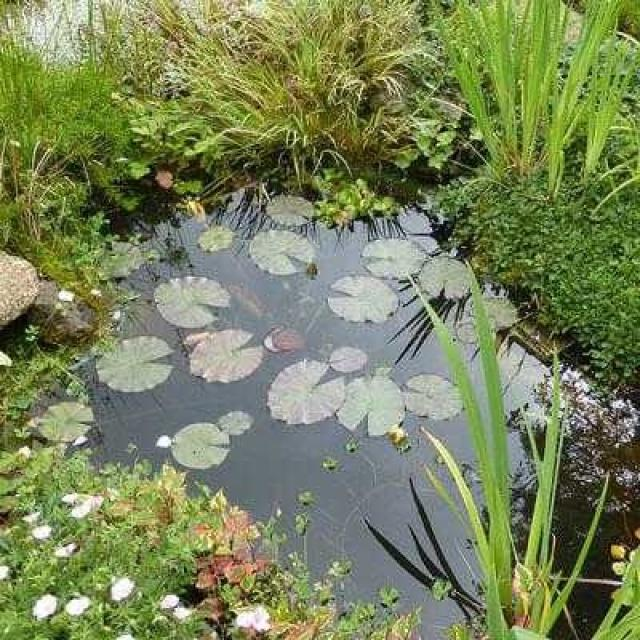Ponds: (77, 152, 640, 630)
